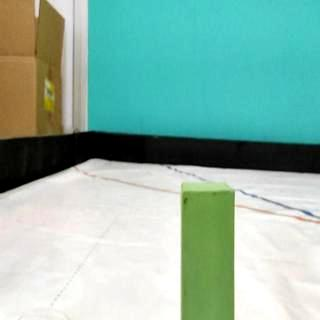greenbox: (182, 183, 234, 320)
